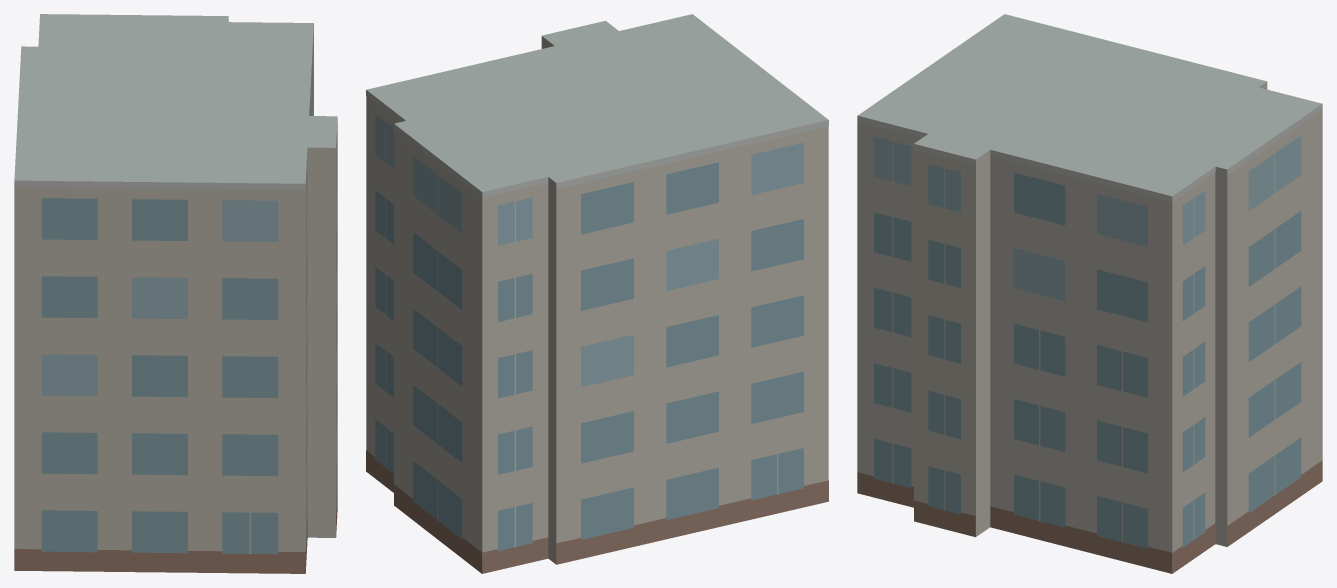
File: survey-upis-32933809.glb
3 renders of one model, left to right at view 1: azimuth 30°, elevation 25°; view 2: azimuth 150°, elevation 25°; view 3: azimuth 270°, elevation 25°, orthographic. The views are drawn at different scales.
Parts seen in each view (by area): view 1: survey-upis-32933809.tmp; view 2: survey-upis-32933809.tmp; view 3: survey-upis-32933809.tmp.
Boxes of the visible parts, left/top/right/bottom form: survey-upis-32933809.tmp: left=14, top=14, right=337, bottom=573; survey-upis-32933809.tmp: left=366, top=14, right=828, bottom=573; survey-upis-32933809.tmp: left=857, top=14, right=1322, bottom=573.
Bounding box in the file's own units: 15.65 × 15.1 × 16.87.
